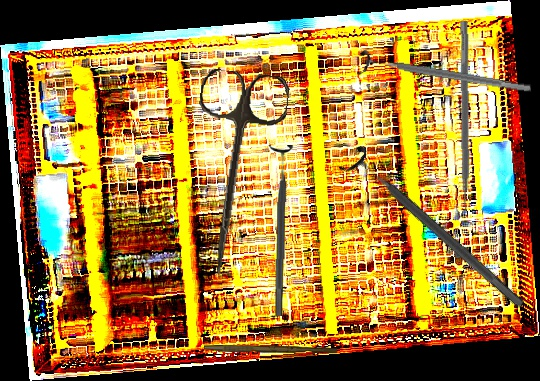Fixation Ring: (336, 140, 535, 320), (356, 48, 534, 103), (264, 144, 295, 317)
Iris Scissors: (179, 67, 291, 279)
Scalpel Handle: (204, 345, 337, 354)
Spatula Surgical: (452, 20, 472, 220)
